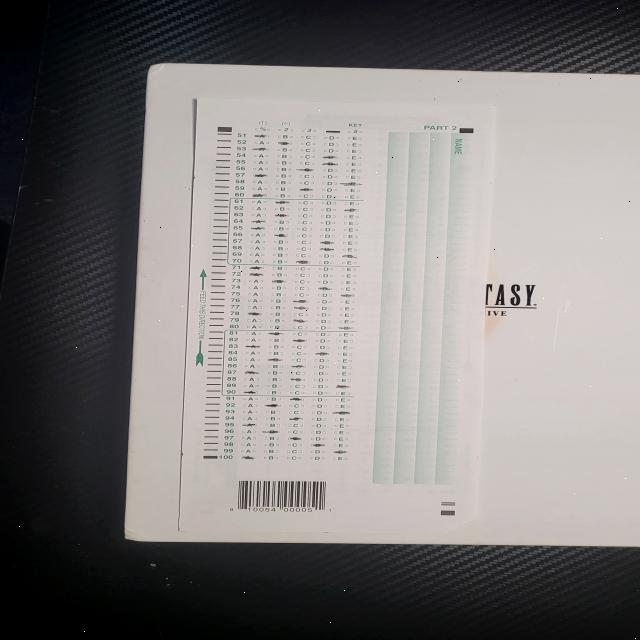scantron_back: (177, 97, 497, 534)
